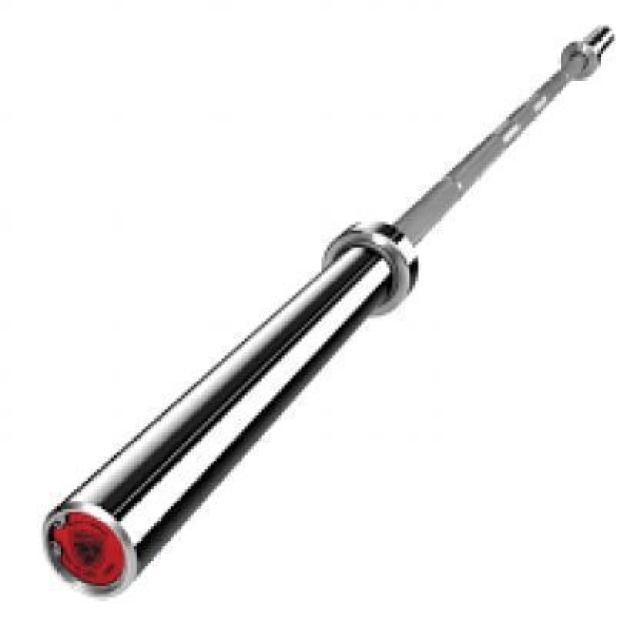barbell: (27, 207, 437, 624)
